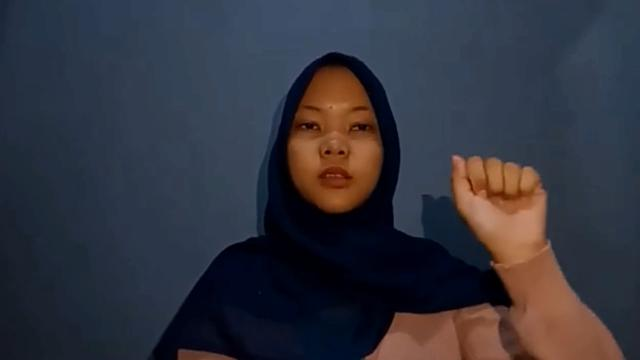A: (448, 153, 548, 261)
